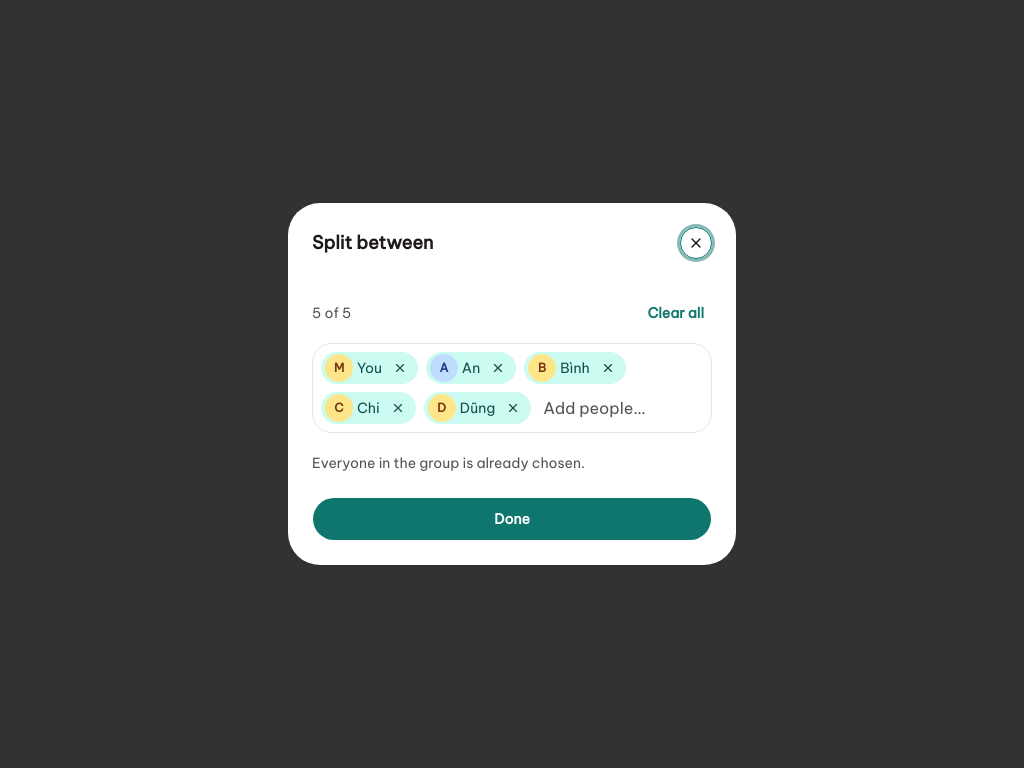
Test case: SplitPeopleSheet, any group size › Clear all, then Add everyone
The width and height of the screenshot is (1024, 768).
Click the button "Clear all" at x=676, y=313, box [639,291,712,335]
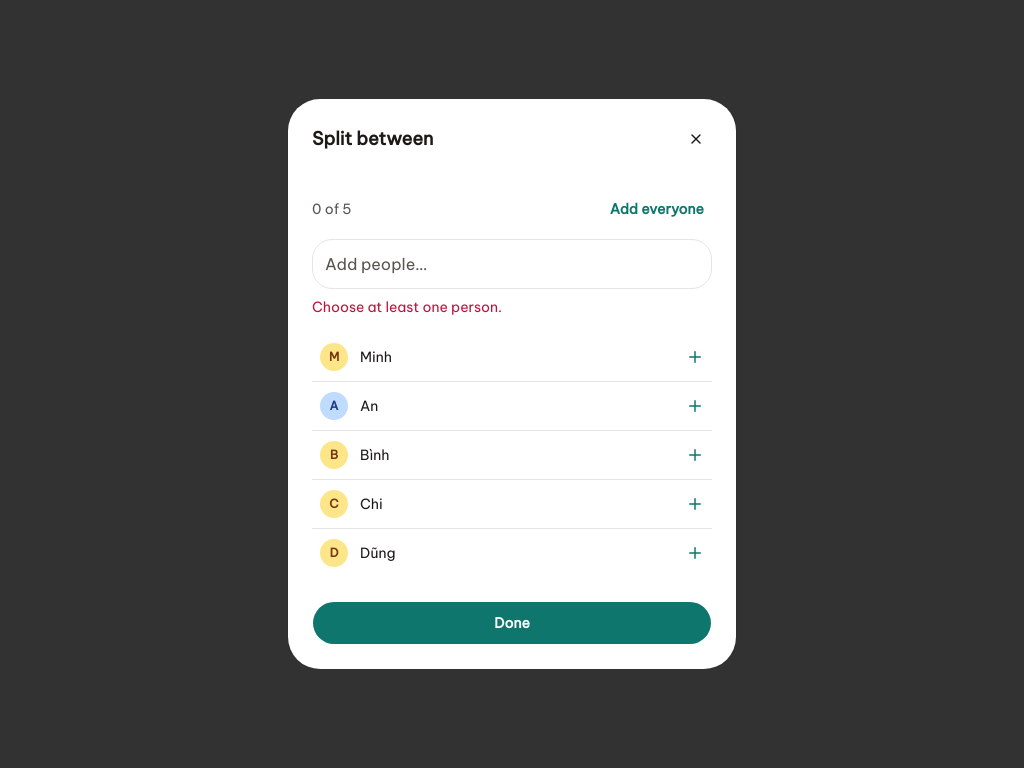
Expected: the text "0 of 5" is shown, [312,199,352,219]
Expected: the text "Choose at least one person." is shown, [312,298,502,316]
Expected: the button "Clear all" is gone
Click the button "Add everyone" at x=657, y=209, box [602,187,712,231]
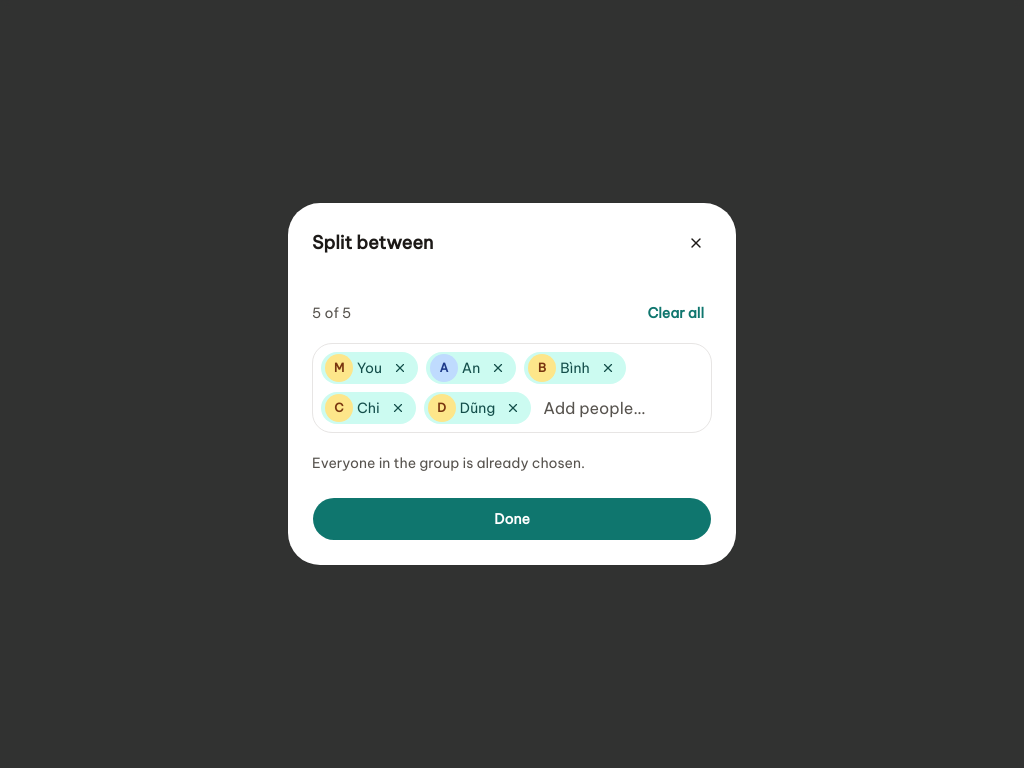
Expected: the text "5 of 5" is shown, [312,303,351,323]
Expected: the button "Add everyone" is gone
